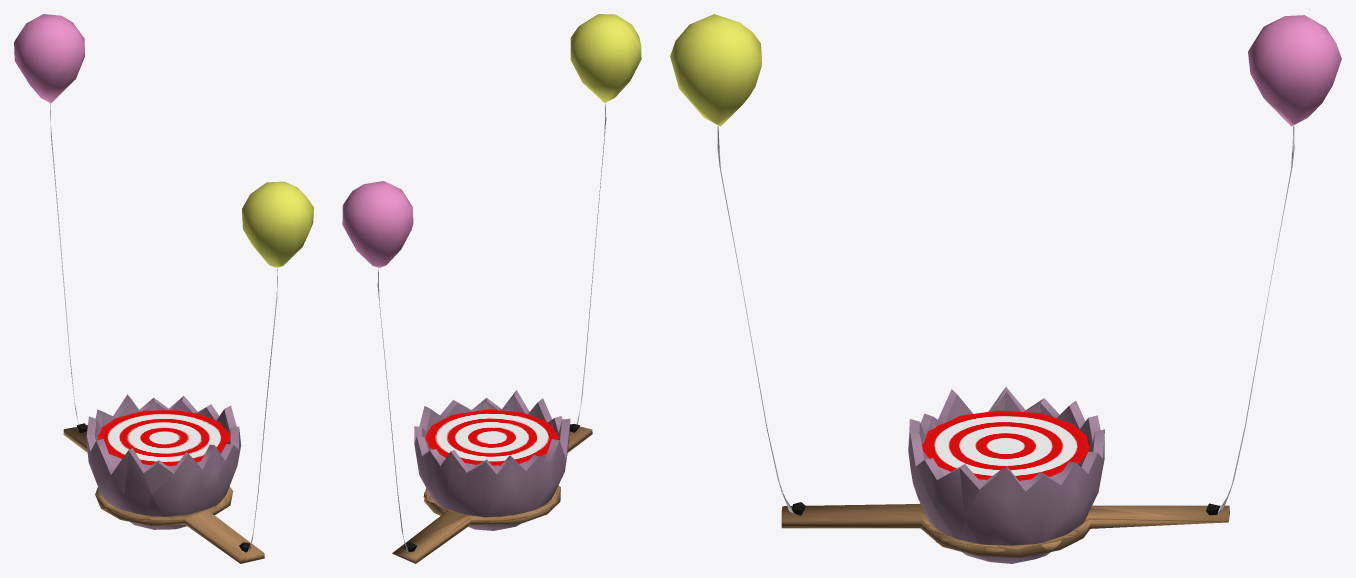
The model's file is TargetMesh2.fbx.
3 views of the same model, side by side, from view 1: azimuth 30°, elevation 25°; view 2: azimuth 150°, elevation 25°; view 3: azimuth 270°, elevation 25° (orthographic). The views are drawn at different scales.
Visible parts, largest first — view 1: Egg_ShallA, target, balloon, balloon.001, Circle, balloon path, balloon path.001; view 2: Egg_ShallA, target, balloon.001, balloon, Circle, balloon path.001; view 3: Egg_ShallA, target, Circle, balloon, balloon.001.
Boxes of the visible parts, x1,y1,x2,y2 form: Egg_ShallA: (86,394,241,529); target: (97,410,230,465); balloon: (14,14,84,103); balloon.001: (242,181,313,268); Circle: (63,423,264,563); balloon path: (50,103,78,424); balloon path.001: (247,268,277,552); Egg_ShallA: (414,390,570,530); target: (425,409,558,465); balloon.001: (570,14,641,102); balloon: (342,181,413,267); Circle: (392,424,592,563); balloon path.001: (576,103,606,424); Egg_ShallA: (908,387,1104,563); target: (922,410,1090,480); Circle: (781,502,1229,557); balloon: (1248,15,1341,126); balloon.001: (670,14,761,126).
Bounding box in the file's own units: 431 × 1288 × 1467.
